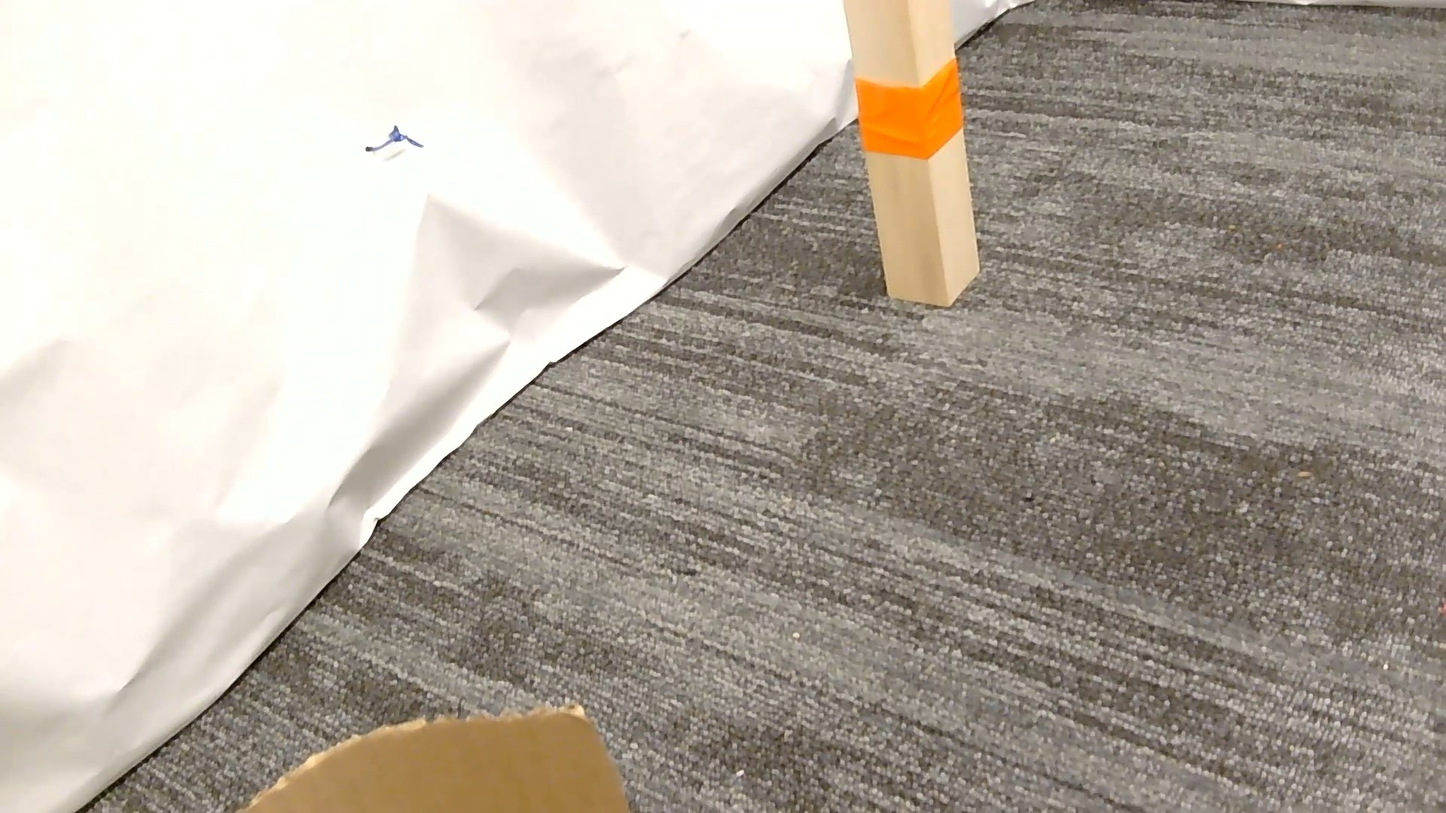Ramp: (240, 705, 630, 812)
Wooden Block: (842, 0, 979, 306)
